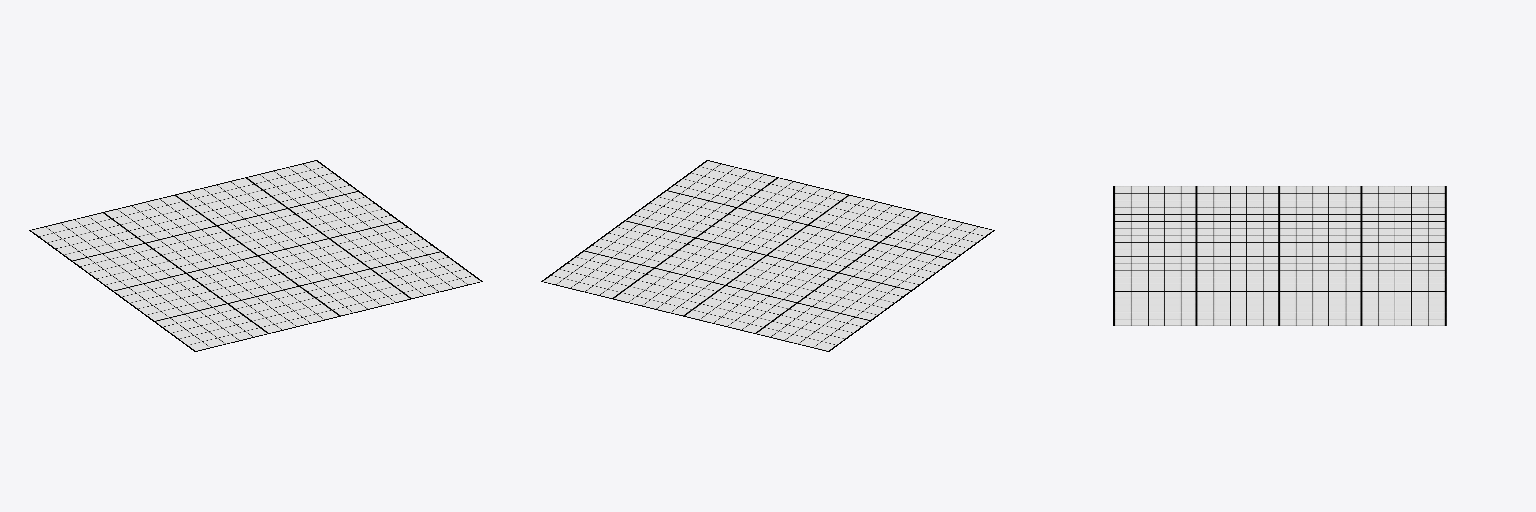
3 views of the same model, side by side, from view 1: azimuth 30°, elevation 25°; view 2: azimuth 150°, elevation 25°; view 3: azimuth 270°, elevation 25° (orthographic).
Visible parts, largest first — view 1: Cube; view 2: Cube; view 3: Cube.
Part boxes in pixels (x1,y1,x2,y2): Cube: (29, 160, 482, 351); Cube: (541, 160, 994, 351); Cube: (1113, 186, 1446, 325).
Bounding box in the file's own units: 1 × 0 × 1.
1 materials, 1 textured.